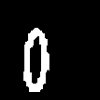chain: (24, 28, 48, 91)
